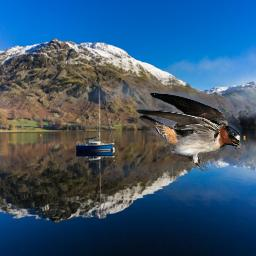Swallow: (136, 92, 242, 171)
